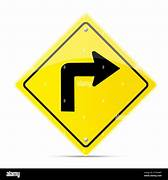right: (15, 15, 157, 154)
